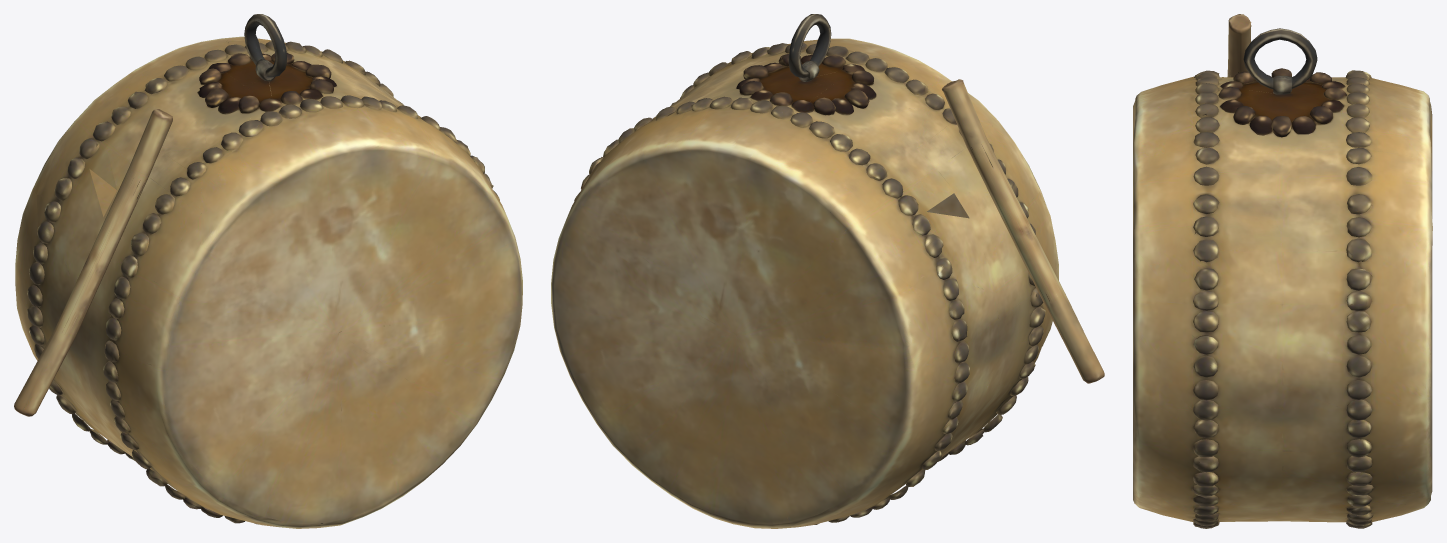
Rendered from buk.glb.
3 renders of one model, left to right at view 1: azimuth 30°, elevation 25°; view 2: azimuth 150°, elevation 25°; view 3: azimuth 270°, elevation 25°, orthographic.
Visible parts, largest first — view 1: geometry_0; view 2: geometry_0; view 3: geometry_0.
Boxes of the visible parts, x1,y1,x2,y2 form: geometry_0: [14, 14, 522, 528]; geometry_0: [551, 14, 1104, 528]; geometry_0: [1133, 14, 1432, 528].
Size of the model in its own units: 0.9512 by 0.9058 by 0.5161.
Materials: 1 (1 with a texture image).
